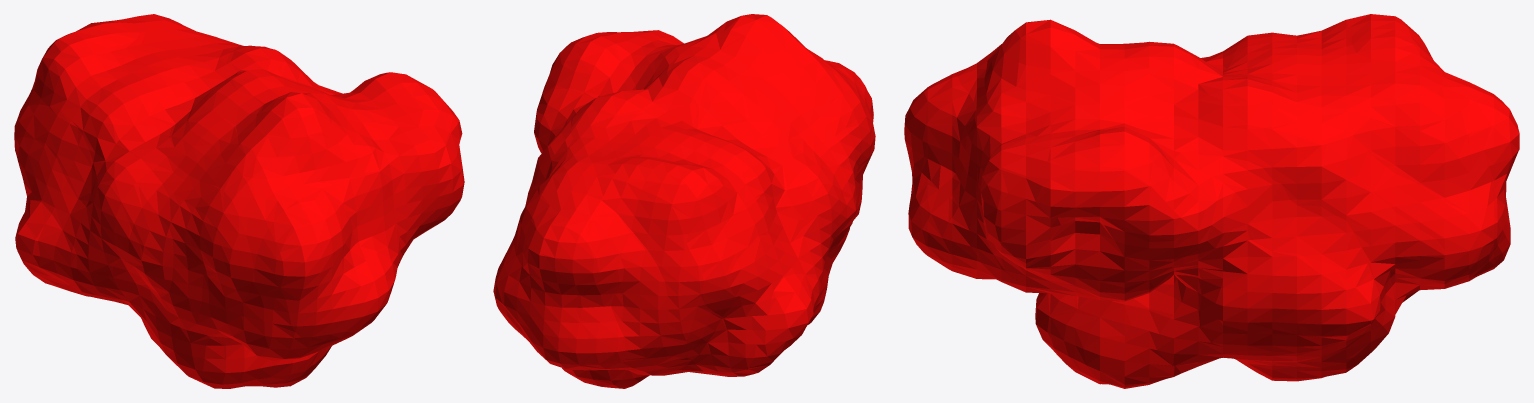
Rendered from ypeA_coarse.dae.
3 renders of one model, left to right at view 1: azimuth 30°, elevation 25°; view 2: azimuth 150°, elevation 25°; view 3: azimuth 270°, elevation 25°, orthographic. The views are drawn at different scales.
Parts seen in each view (by area): view 1: ypeA; view 2: ypeA; view 3: ypeA.
Part boxes in pixels (x1=…): ypeA: x1=14, y1=14, x2=464, y2=388; ypeA: x1=493, y1=14, x2=875, y2=388; ypeA: x1=904, y1=14, x2=1519, y2=388.
Bounding box in the file's own units: 50.52 × 43.97 × 69.89.
